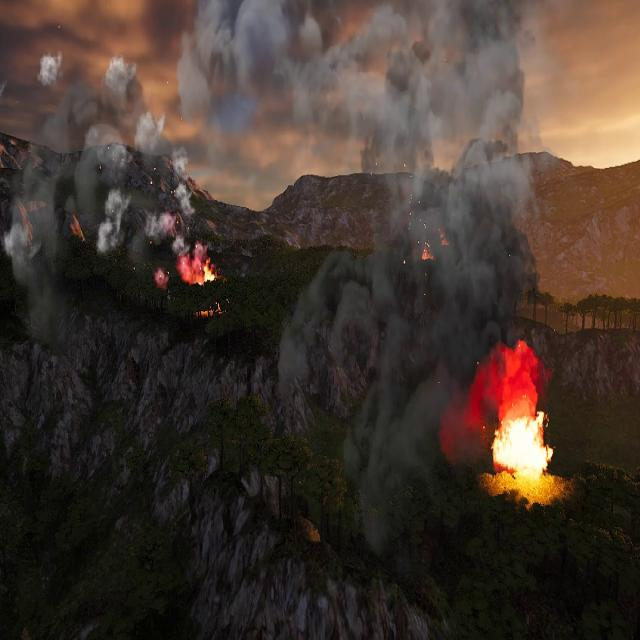fire: (491, 407, 552, 494), (204, 261, 218, 285)
smoke: (282, 167, 545, 558), (0, 36, 204, 347), (174, 0, 518, 171), (156, 268, 170, 289)
